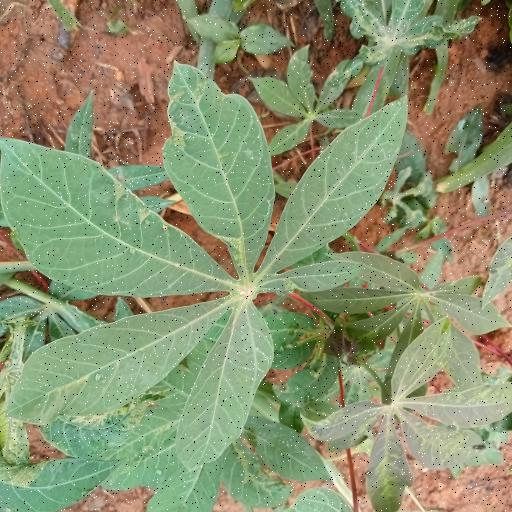Cassava_Mosaic: (4, 70, 410, 454)
